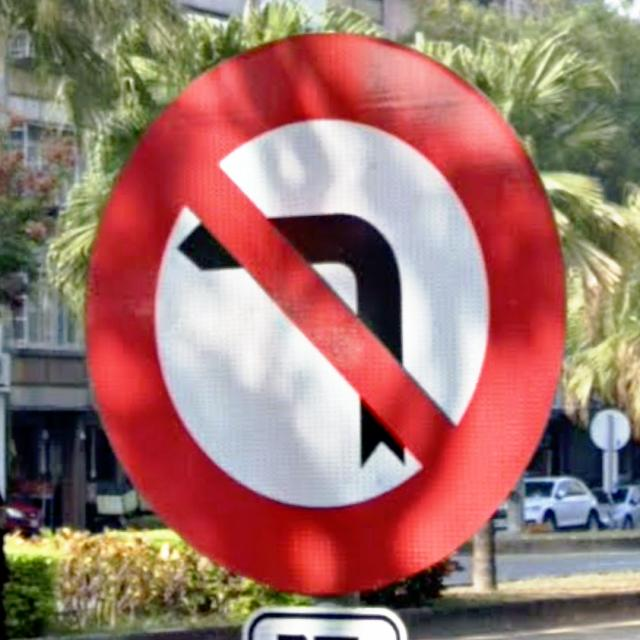noturnleft: (84, 34, 568, 600)
